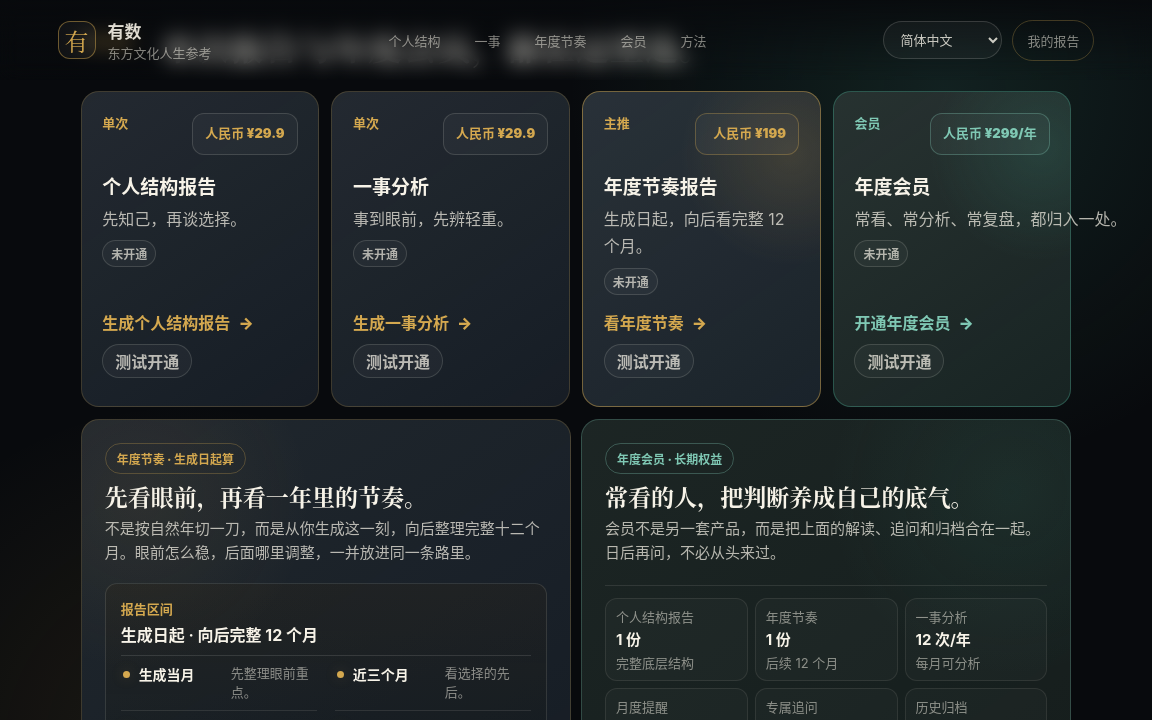
it: Youshu homepage › saves generated reports to Supabase when a user is signed in
(page scrolled)
Click the button with aria-label "测试开通：个人结构报告": (147, 361) left=102, top=344, right=192, bottom=378
(page scrolled)
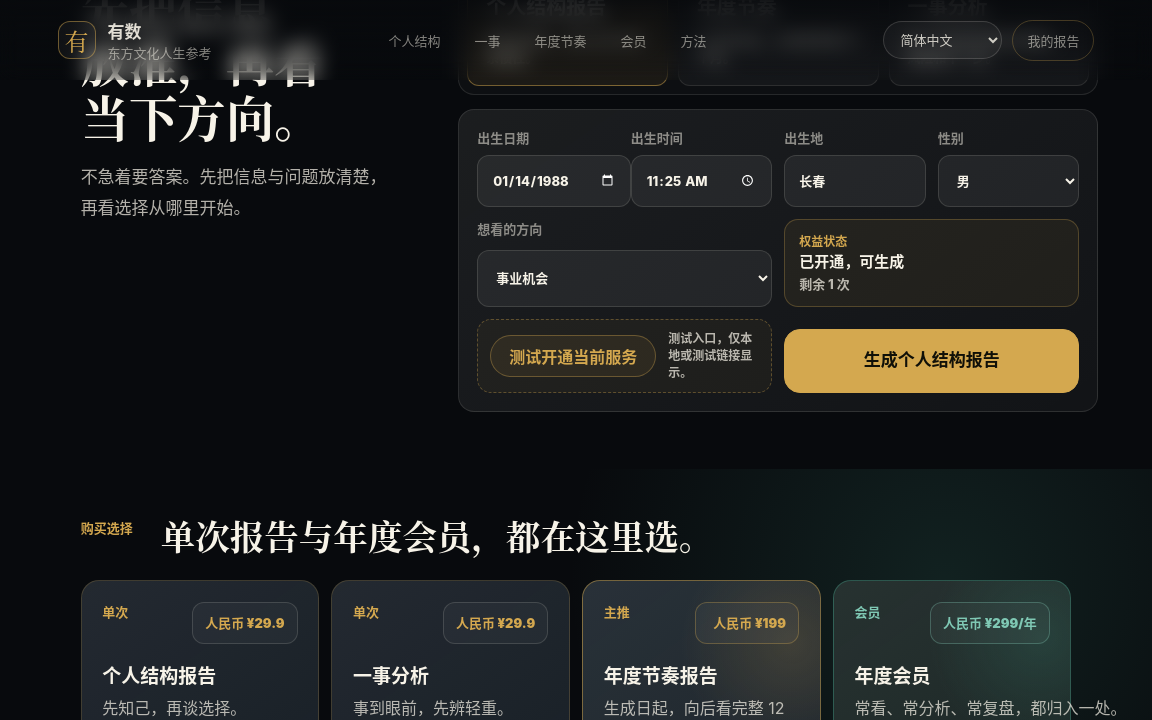
Click the button "生成个人结构报告": (932, 361) left=784, top=329, right=1079, bottom=393
(page scrolled)
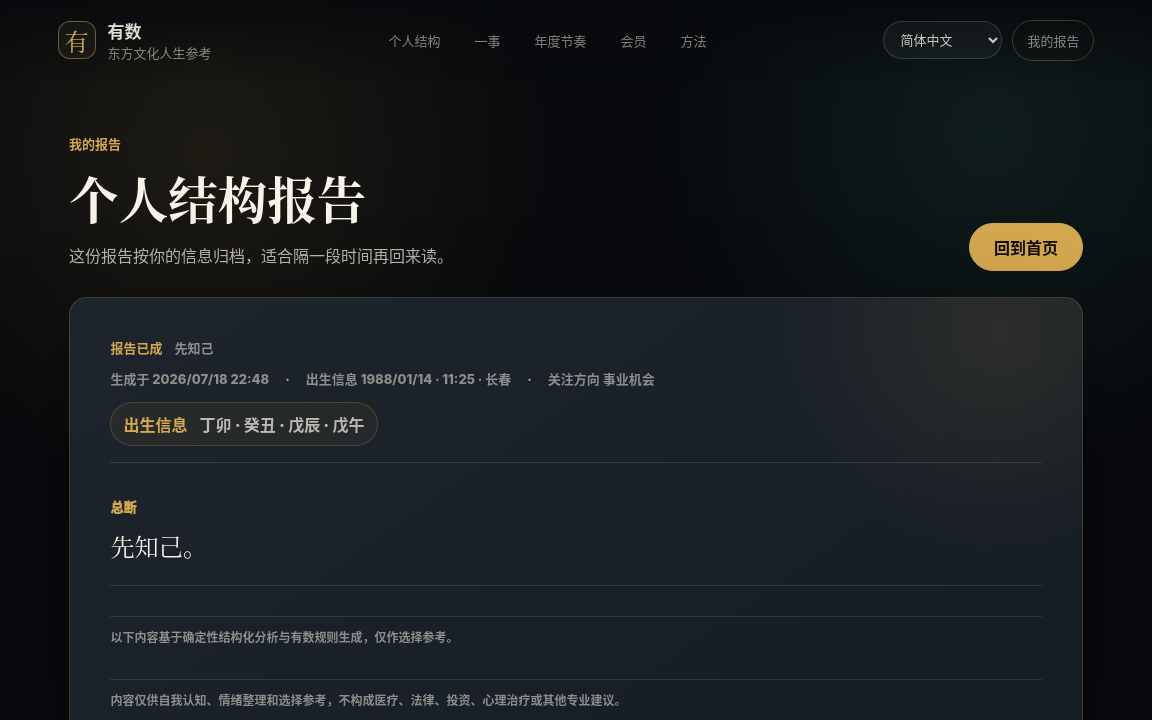
Now the text "报告已成" is shown, box left=110, top=338, right=162, bottom=357
